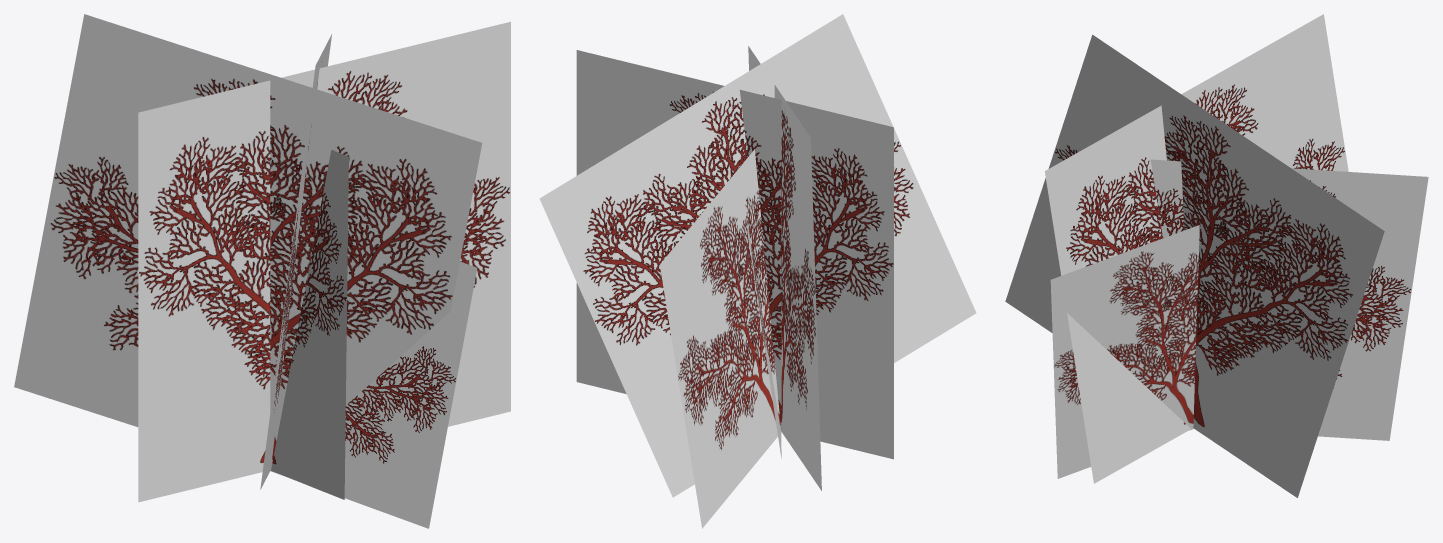
The model's file is SeaFan.FBX.
The picture shows the model from 3 angles, left to right: view 1: azimuth 30°, elevation 25°; view 2: azimuth 150°, elevation 25°; view 3: azimuth 270°, elevation 25°; orthographic projection. The views are drawn at different scales.
Parts seen in each view (by area): view 1: Sea Fan; view 2: Sea Fan; view 3: Sea Fan.
Boxes of the visible parts, x1=… form: Sea Fan: x1=14, y1=14, x2=510, y2=528; Sea Fan: x1=539, y1=14, x2=976, y2=528; Sea Fan: x1=1005, y1=14, x2=1428, y2=497.
Size of the model in its own units: 41.28 by 50.28 by 44.85.
1 material, 1 textured.
